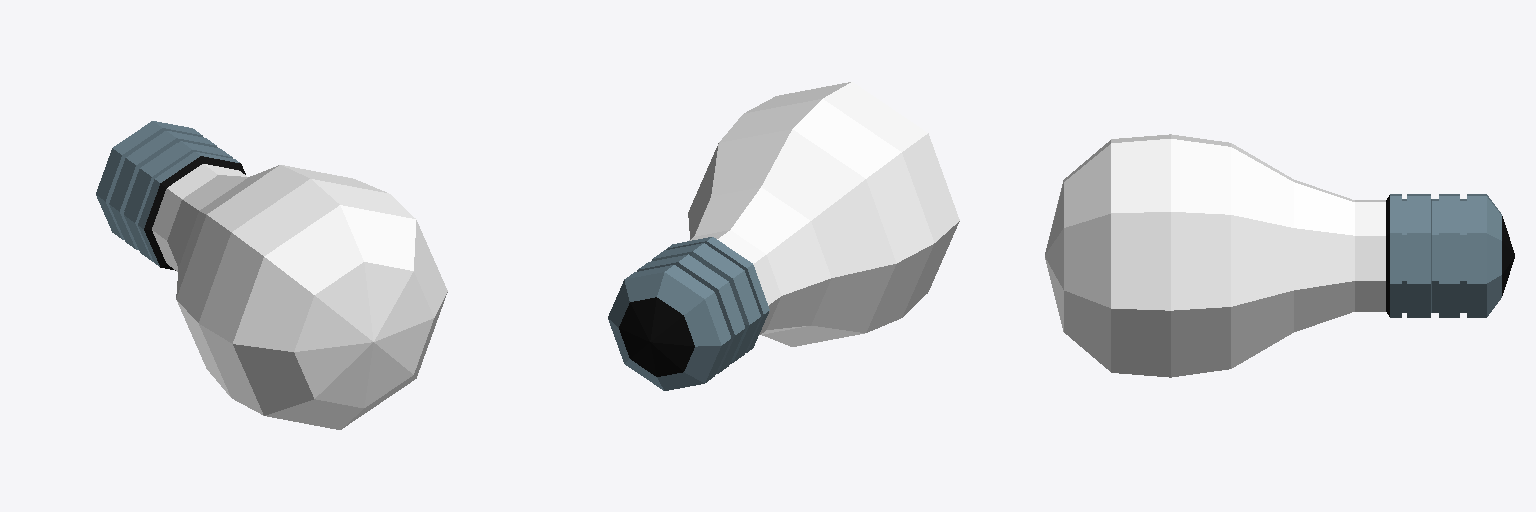
The model's file is lightbulb.obj.
3 views of the same model, side by side, from view 1: azimuth 30°, elevation 25°; view 2: azimuth 150°, elevation 25°; view 3: azimuth 270°, elevation 25° (orthographic).
Parts seen in each view (by area): view 1: LightBulb; view 2: LightBulb; view 3: LightBulb.
Part boxes in pixels (x1,y1,x2,y2): LightBulb: (96, 121, 447, 429); LightBulb: (608, 82, 959, 390); LightBulb: (1045, 134, 1514, 377).
Size of the model in its own units: 1 by 1 by 1.82.